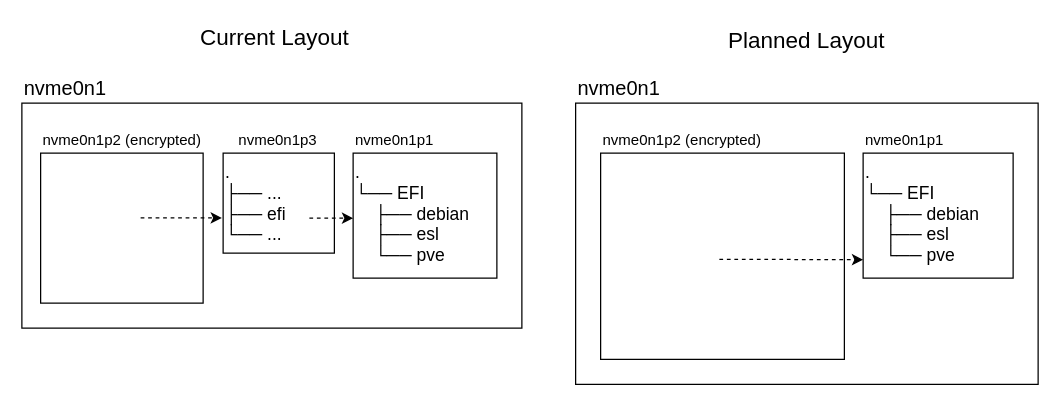
Image size: 1060x406. Some labels were removed from this diagram. The centre of each missing label's shape, as x and y in pixels:
". ├── bin ├── boot │ ├── ... │ ├── efi │ └── ... ├── dev ├── etc └── ..." belongs at point (721, 255).
". ├── bin ├── boot ├── dev ├── etc └── ..." belongs at point (121, 227).
